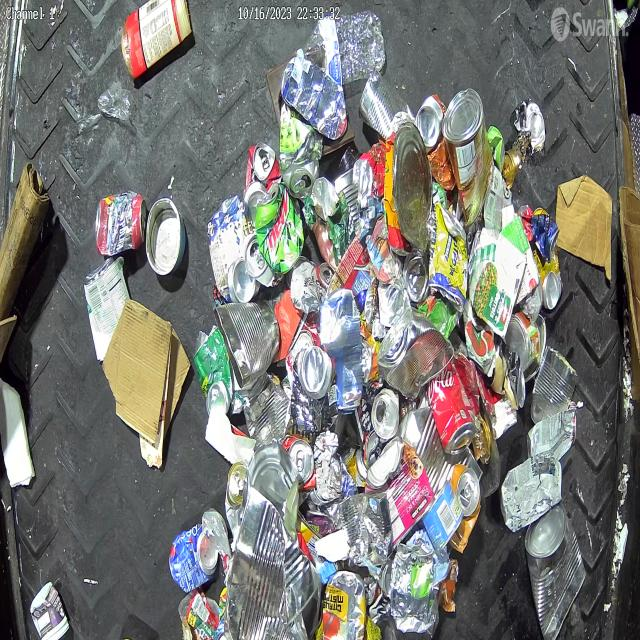can: (224, 484, 322, 640), (524, 500, 586, 640), (364, 436, 436, 550), (376, 309, 454, 402), (442, 88, 494, 226), (214, 298, 280, 390), (206, 195, 261, 305), (84, 257, 132, 363), (254, 182, 304, 276), (426, 366, 476, 456), (429, 205, 469, 313), (339, 490, 394, 568), (414, 93, 456, 191), (242, 370, 290, 452), (169, 520, 219, 592), (530, 348, 578, 422), (390, 542, 436, 618), (95, 190, 147, 257), (144, 198, 187, 278), (193, 325, 231, 415), (422, 478, 464, 554), (448, 462, 482, 553), (530, 208, 562, 304), (280, 127, 322, 200), (527, 402, 577, 462), (244, 140, 282, 218), (358, 71, 394, 139), (504, 312, 540, 374), (246, 232, 284, 288), (298, 345, 334, 399), (514, 98, 546, 156), (225, 461, 249, 536), (281, 435, 315, 486), (501, 342, 526, 408), (372, 378, 399, 439), (542, 264, 564, 308), (504, 148, 526, 192), (364, 426, 386, 468)
plastic_bottle: (296, 13, 386, 85)
